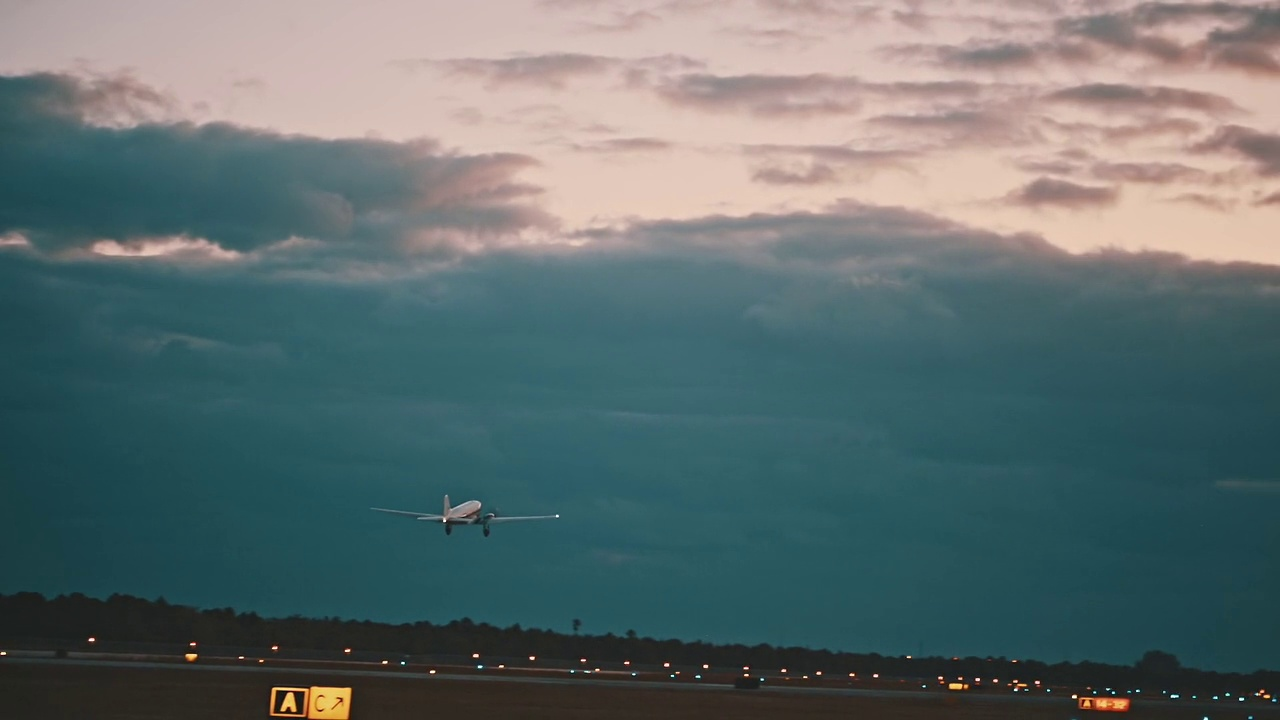plane: (371, 492, 560, 540)
